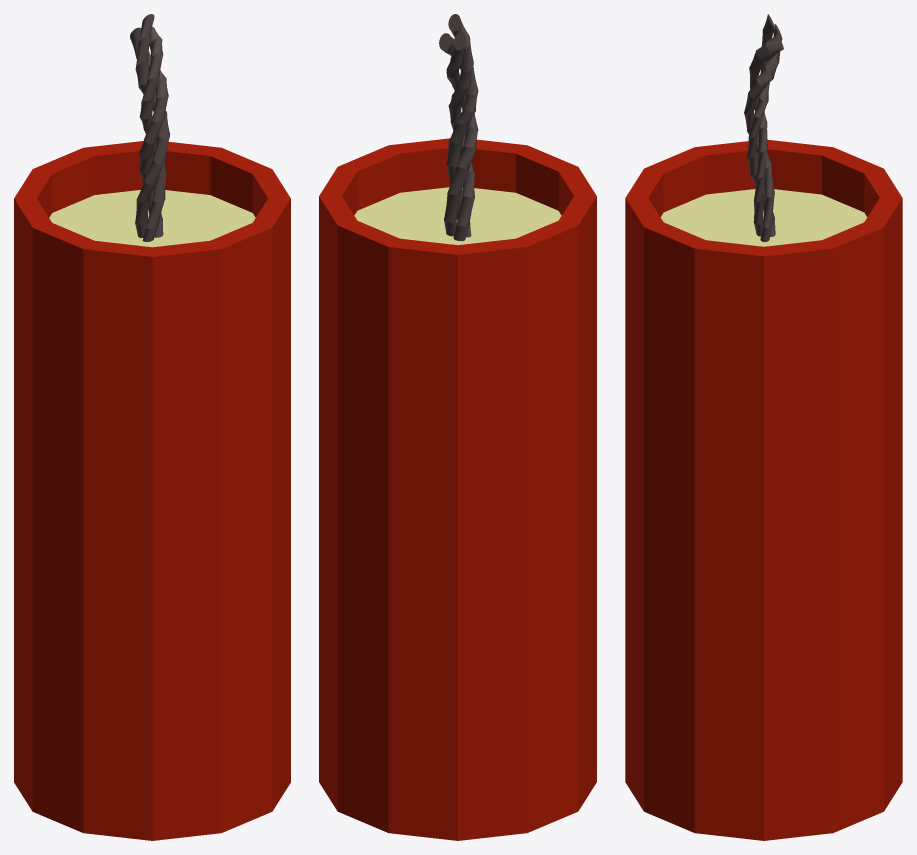
Rendered from dainanananma.fbx.
3 renders of one model, left to right at view 1: azimuth 30°, elevation 25°; view 2: azimuth 150°, elevation 25°; view 3: azimuth 270°, elevation 25°, orthographic.
Visible parts, largest first — view 1: pCylinder6; view 2: pCylinder6; view 3: pCylinder6.
Boxes of the visible parts, x1,y1,x2,y2 form: pCylinder6: [14, 14, 290, 840]; pCylinder6: [319, 14, 596, 840]; pCylinder6: [625, 14, 902, 840].
Bounding box in the file's own units: 1.55 × 4.74 × 1.55.
